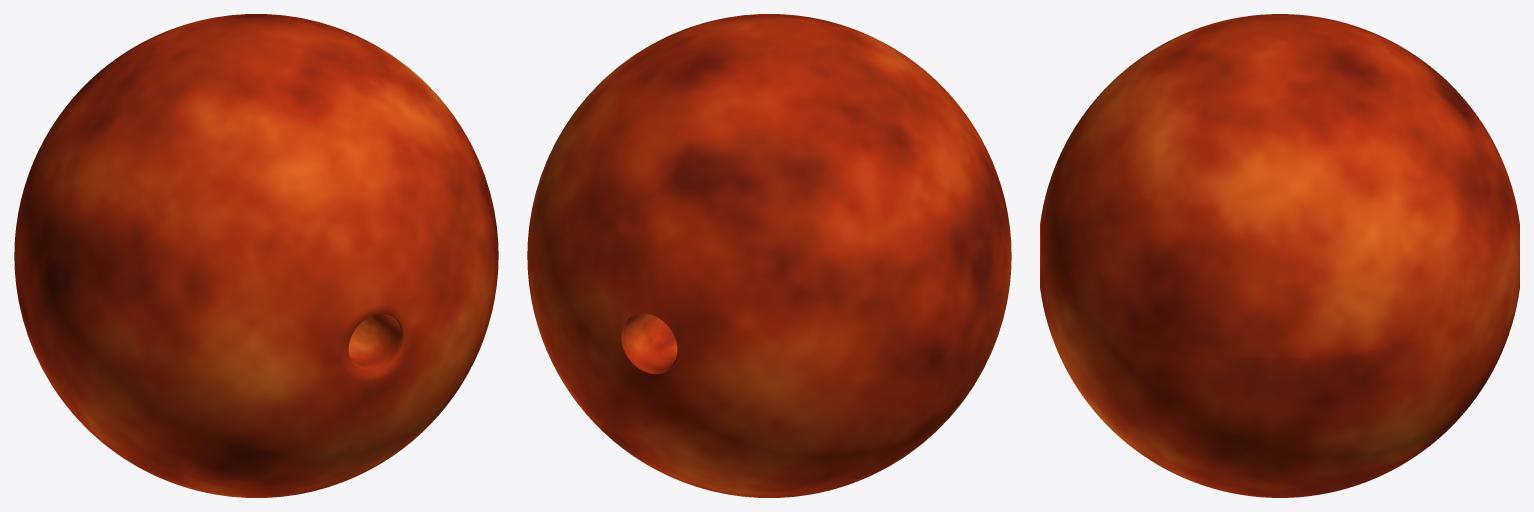
Rendered from carnelian.glb.
3 renders of one model, left to right at view 1: azimuth 30°, elevation 25°; view 2: azimuth 150°, elevation 25°; view 3: azimuth 270°, elevation 25°, orthographic.
Visible parts, largest first — view 1: carnelian.001; view 2: carnelian.001; view 3: carnelian.001.
Part boxes in pixels (x1,y1,x2,y2): carnelian.001: (14, 14, 498, 497); carnelian.001: (527, 14, 1011, 497); carnelian.001: (1040, 14, 1519, 497).
Size of the model in its own units: 0.008 by 0.008 by 0.00793.
2 materials, 1 textured.
